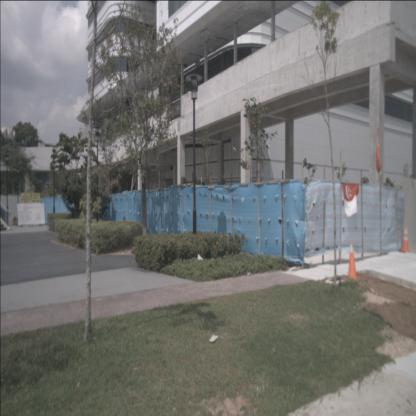movable_object-trafficcone: (346, 242, 360, 280), (401, 226, 411, 252)
